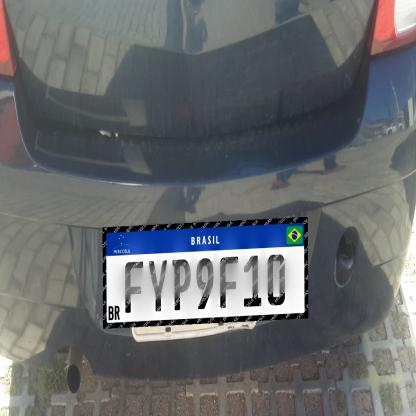PlacaM: (102, 217, 309, 329)
